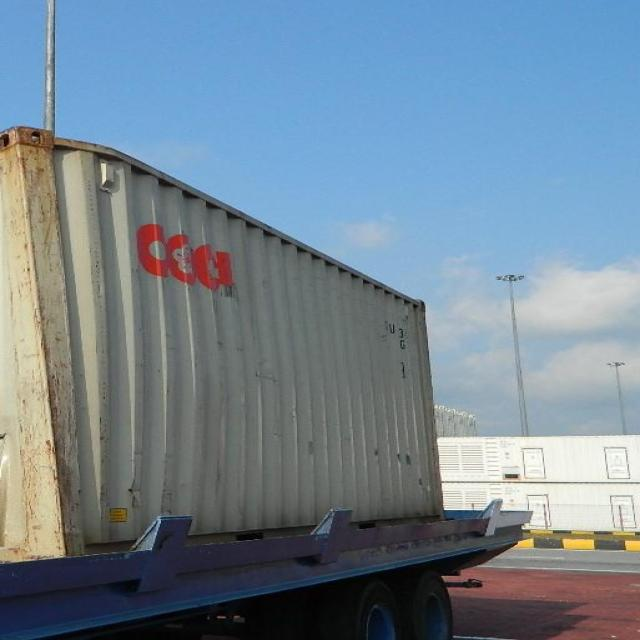dent: (1, 127, 92, 565), (59, 133, 161, 173)
